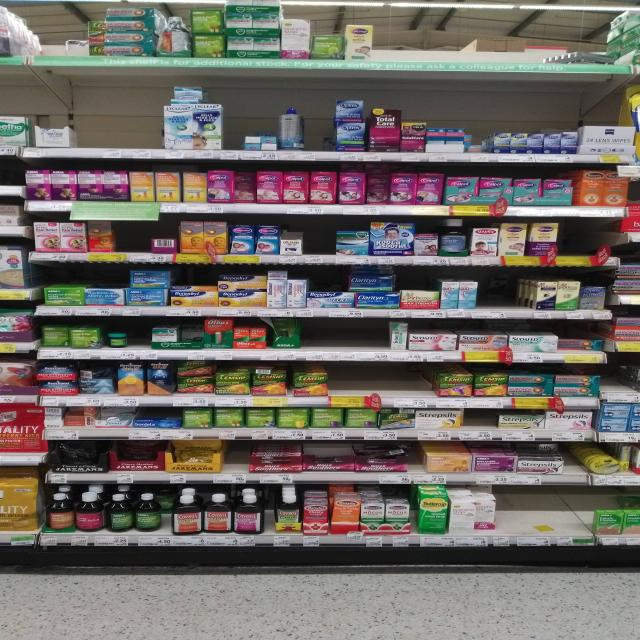empty: (376, 21, 542, 62), (73, 86, 164, 150), (496, 488, 594, 536), (31, 6, 89, 56), (331, 365, 431, 389), (473, 270, 526, 309), (310, 322, 388, 348), (561, 221, 612, 258), (307, 100, 339, 152), (598, 364, 640, 400), (220, 99, 247, 153), (106, 221, 150, 253), (300, 225, 336, 257), (124, 321, 152, 350), (224, 439, 248, 469), (3, 155, 21, 186)
